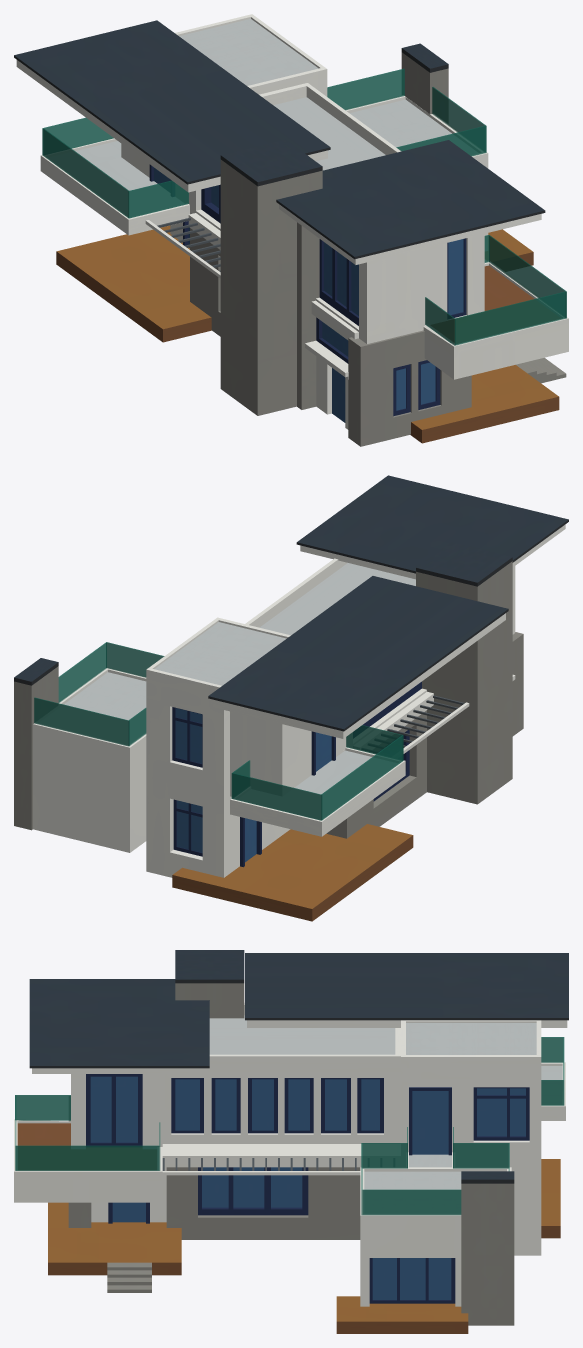
File: home.glb
3 renders of one model, top to bottom at view 1: azimuth 30°, elevation 25°; view 2: azimuth 150°, elevation 25°; view 3: azimuth 270°, elevation 25°, orthographic. The views are drawn at different scales.
Visible parts, largest first — view 1: Cube, Cubo; view 2: Cube, Cubo; view 3: Cube, Cubo.
Part boxes in pixels (box(x1,y1,x2,y2)): Cube: box(14, 14, 568, 446); Cubo: box(42, 68, 566, 345); Cube: box(14, 475, 568, 921); Cubo: box(34, 642, 403, 820); Cube: box(14, 950, 568, 1333); Cubo: box(15, 1037, 564, 1215).
Bounding box in the file's own units: 10.79 × 6.13 × 14.06.
2 materials, 1 textured.
